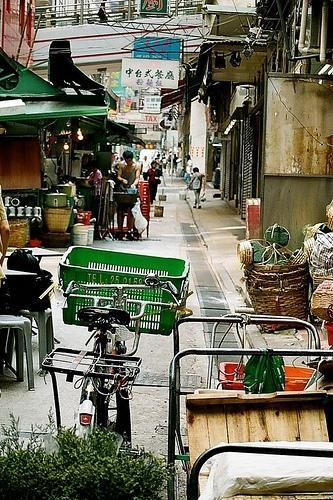bicycle: (42, 273, 180, 439)
